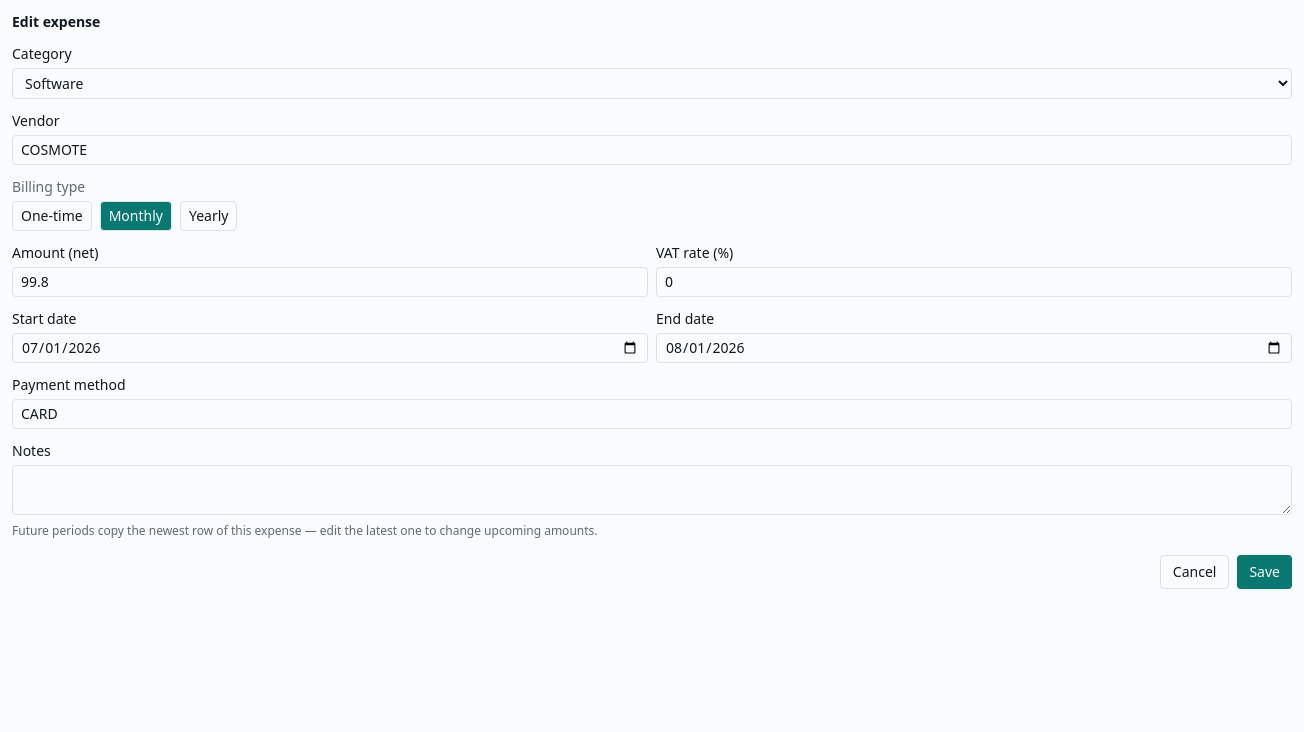
it: ExpenseEditForm › blocks clearing the payment method on a paid expense
Clear the field labelled "Payment method" at (652, 414), box x1=12 y1=399 x2=1292 y2=429
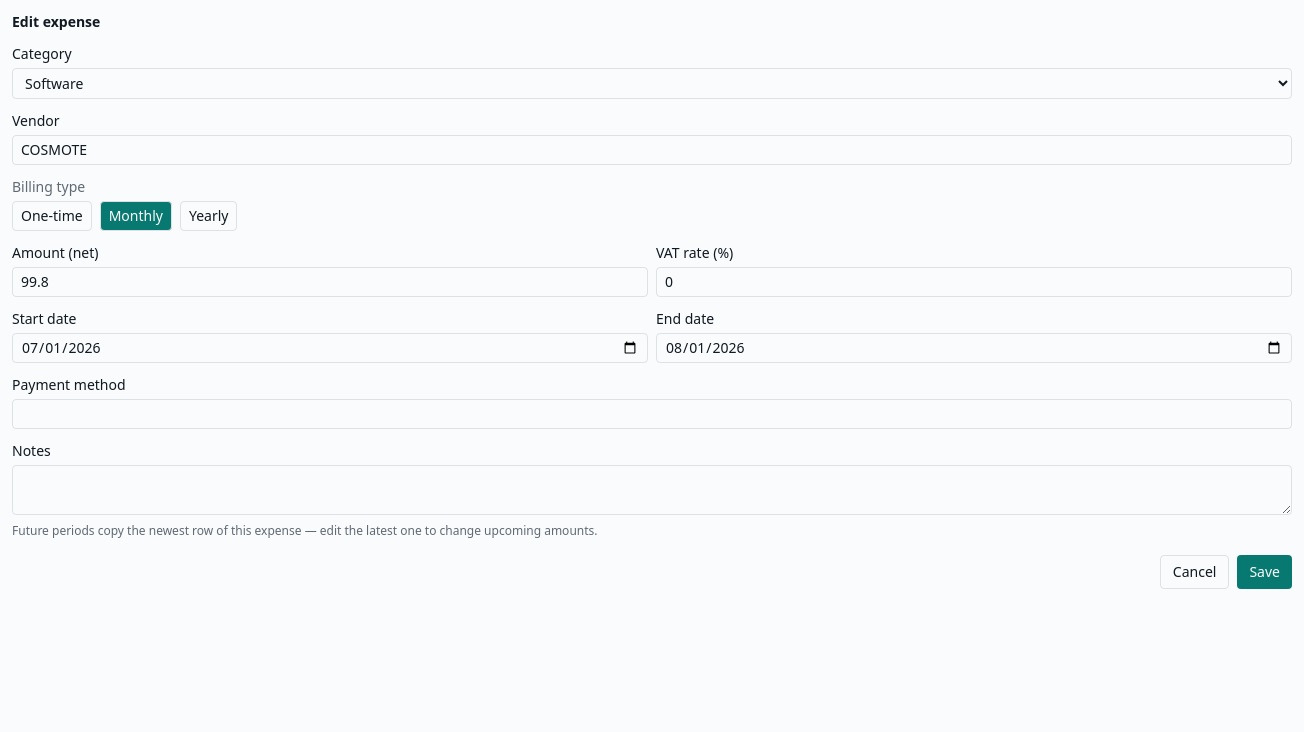
Click the button "Save" at (1265, 572), box x1=1237 y1=555 x2=1292 y2=589
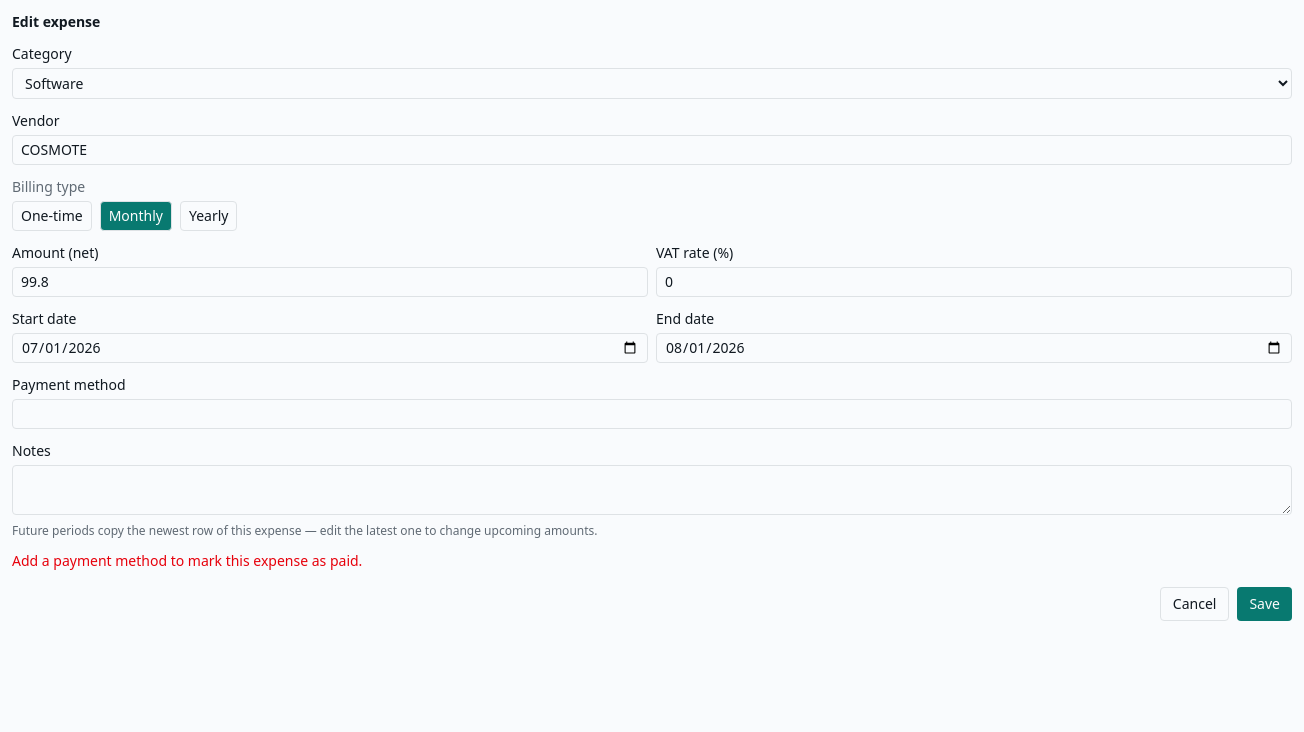
Check: the text "Add a payment method to mark this expense as paid." is shown, box x1=12 y1=551 x2=362 y2=570
